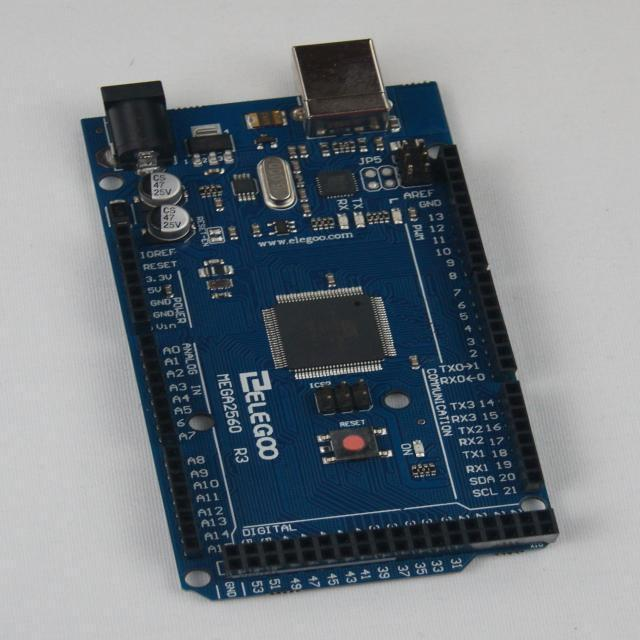Arduino Mega 2560 -Blue-: (82, 41, 558, 600)
